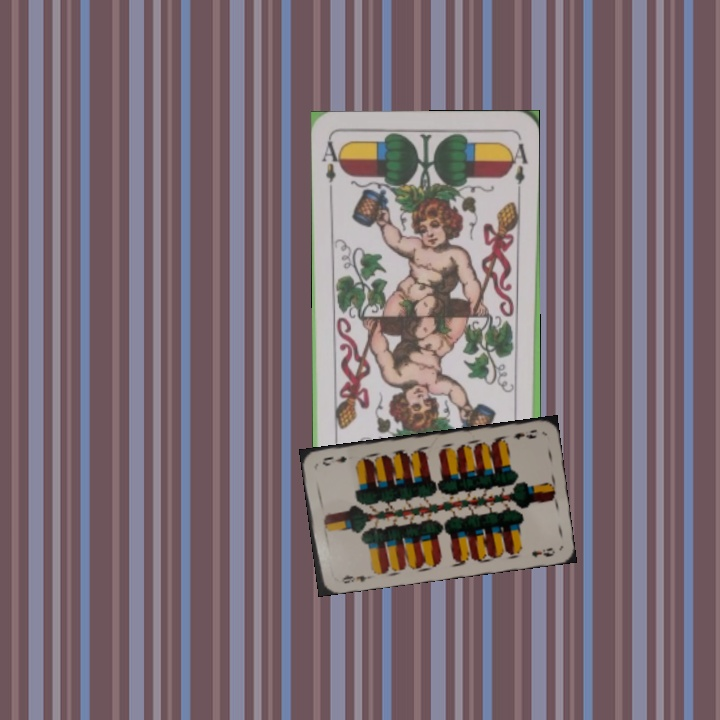E9: (337, 571, 372, 586), (509, 425, 539, 442)
EA: (318, 137, 345, 195)
